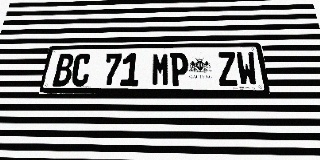1: (120, 53, 140, 86)
7: (102, 53, 122, 86)
B: (52, 54, 75, 86)
C: (70, 54, 92, 86)
M: (151, 53, 169, 86)
P: (170, 52, 189, 86)
W: (235, 52, 259, 86)
Z: (217, 52, 239, 86)
